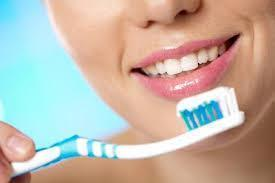normal: (180, 51, 199, 74), (164, 57, 183, 76), (196, 47, 209, 64), (154, 60, 167, 75), (208, 46, 219, 62), (147, 63, 159, 75), (217, 44, 228, 55), (143, 67, 150, 76)
